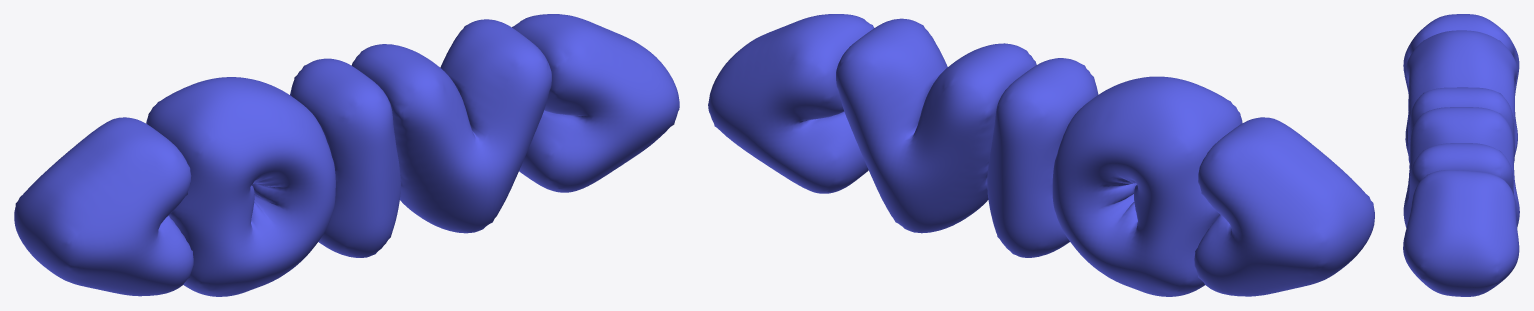
File: div.glb
3 views of the same model, side by side, from view 1: azimuth 30°, elevation 25°; view 2: azimuth 150°, elevation 25°; view 3: azimuth 270°, elevation 25° (orthographic). The views are drawn at different scales.
Parts seen in each view (by area): view 1: Text.003; view 2: Text.003; view 3: Text.003.
Boxes of the visible parts, left/top/right/bottom form: Text.003: left=14, top=14, right=679, bottom=296; Text.003: left=708, top=14, right=1374, bottom=296; Text.003: left=1403, top=14, right=1519, bottom=296.
Bounding box in the file's own units: 23.95 × 7.36 × 5.2.
